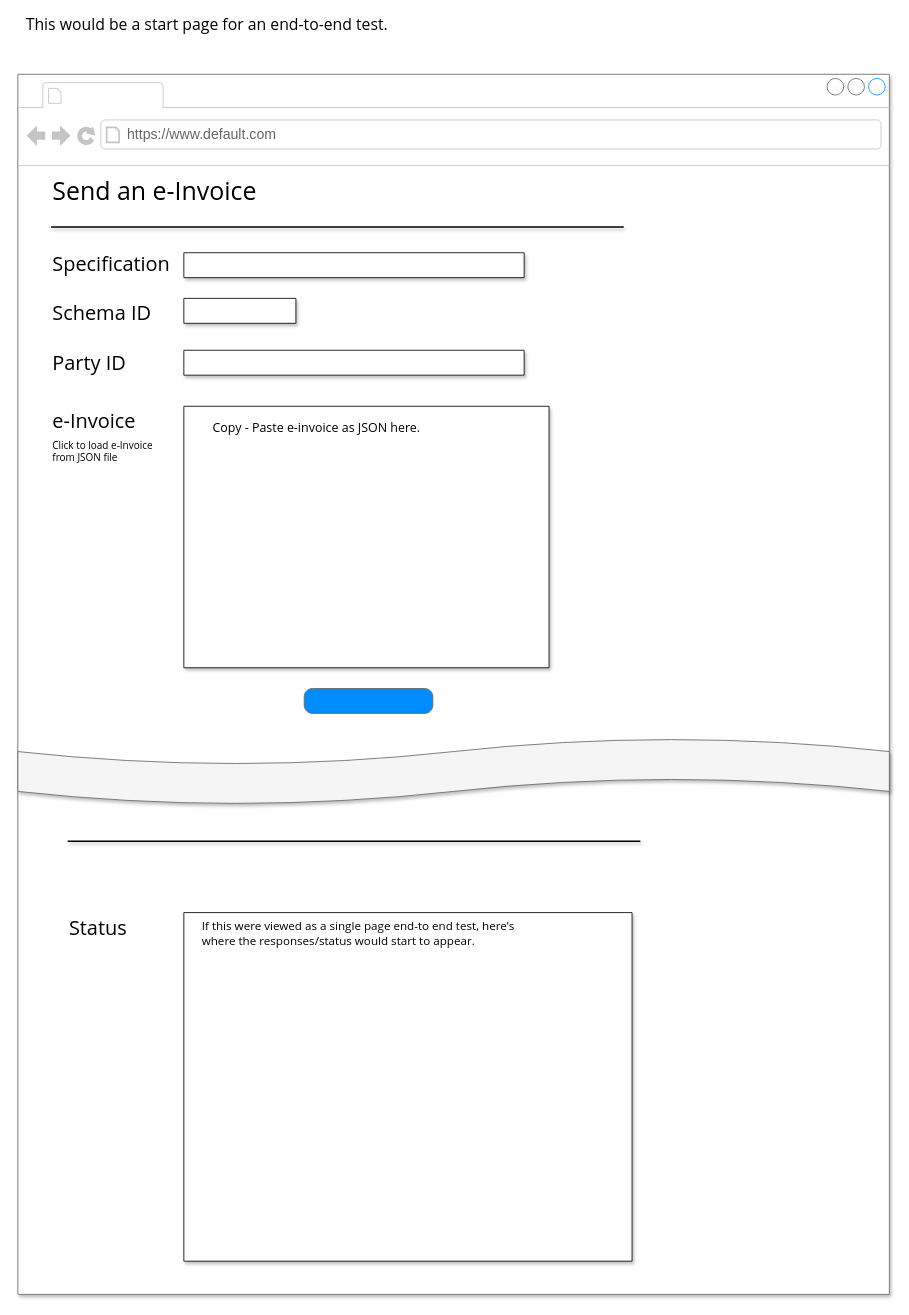
Some shapes in this 909 by 1315 pixel diagram are drawn without their labels. Each missing label, with the centre of its shape:
"Page 1" goes at (x=113, y=94).
"Submit" goes at (x=368, y=700).
